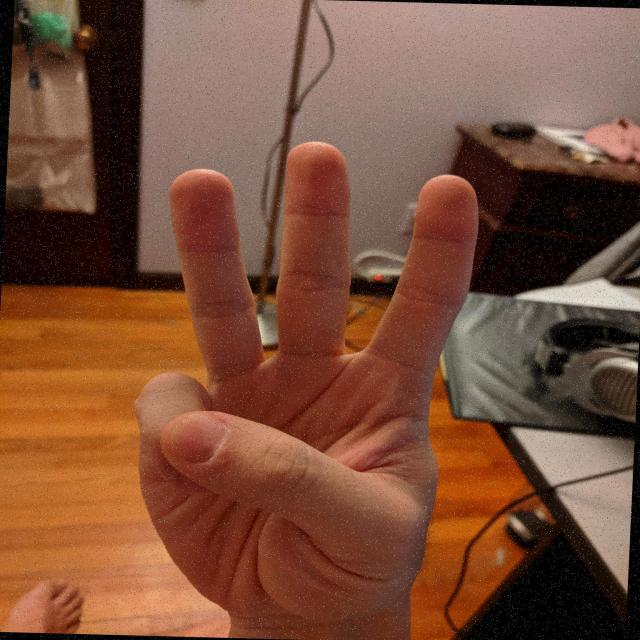W: (120, 133, 492, 634)
